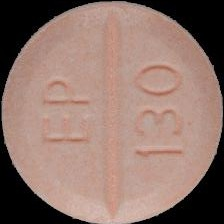63187-441: (0, 0, 224, 224)
